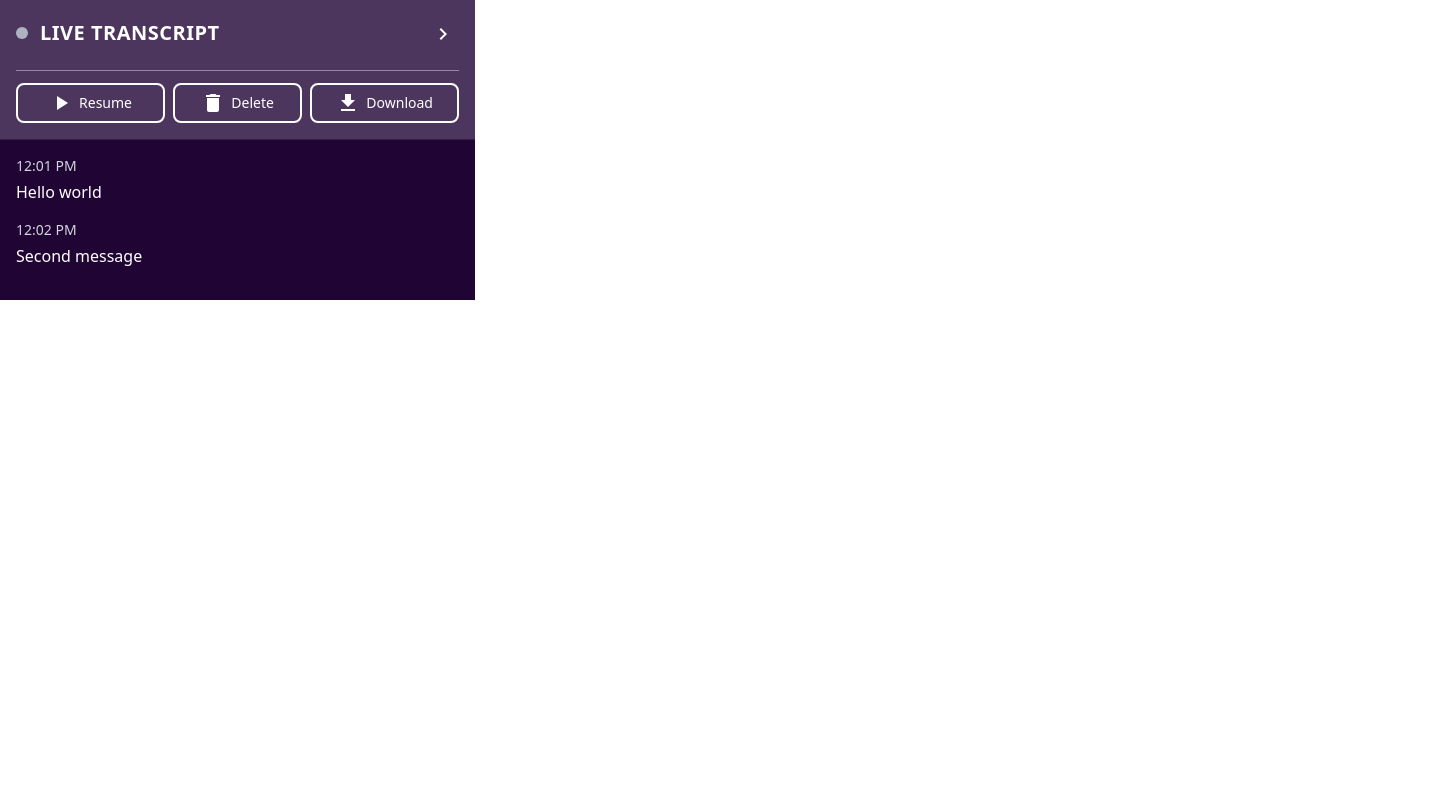
Transcript › Transcript Controls › opens confirmation modal when delete button is clicked
Click the button with aria-label "Delete transcript": (238, 103) [173,83,302,123]
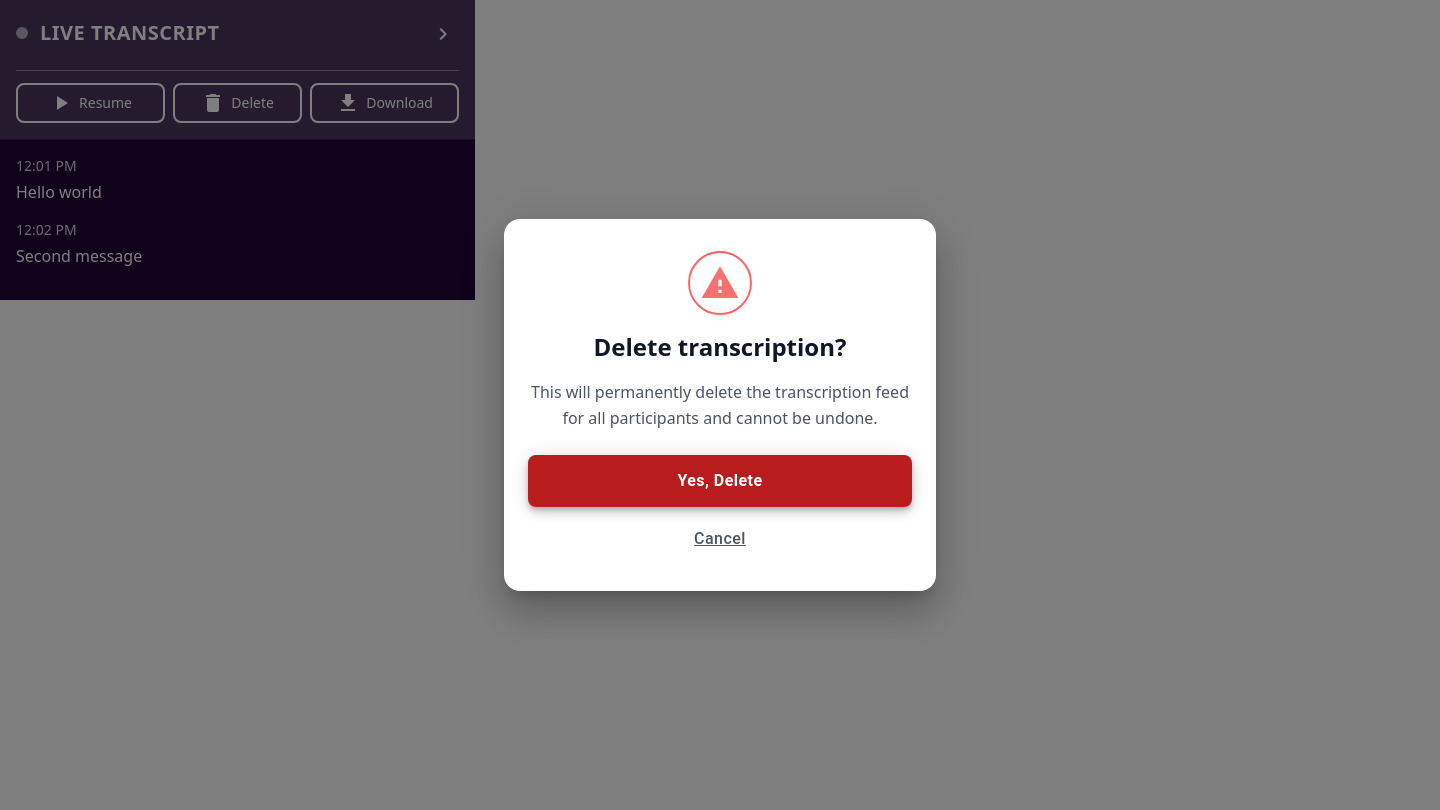
Now the heading "Delete transcription?" is shown, box [594,331,846,363]
Now the button "Yes, Delete" is shown, box [528,455,912,507]
